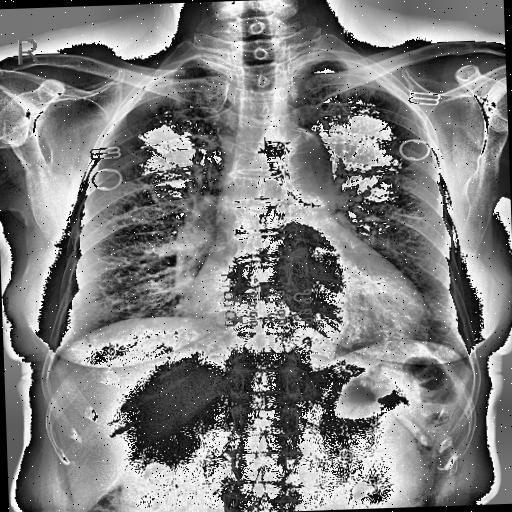0- Aortic enlargement: (268, 128, 334, 188), (261, 126, 331, 175)
11- Pleural thickening: (345, 54, 394, 92)
3- Cardiomegaly: (192, 260, 433, 353), (184, 277, 430, 356), (188, 272, 427, 340)
